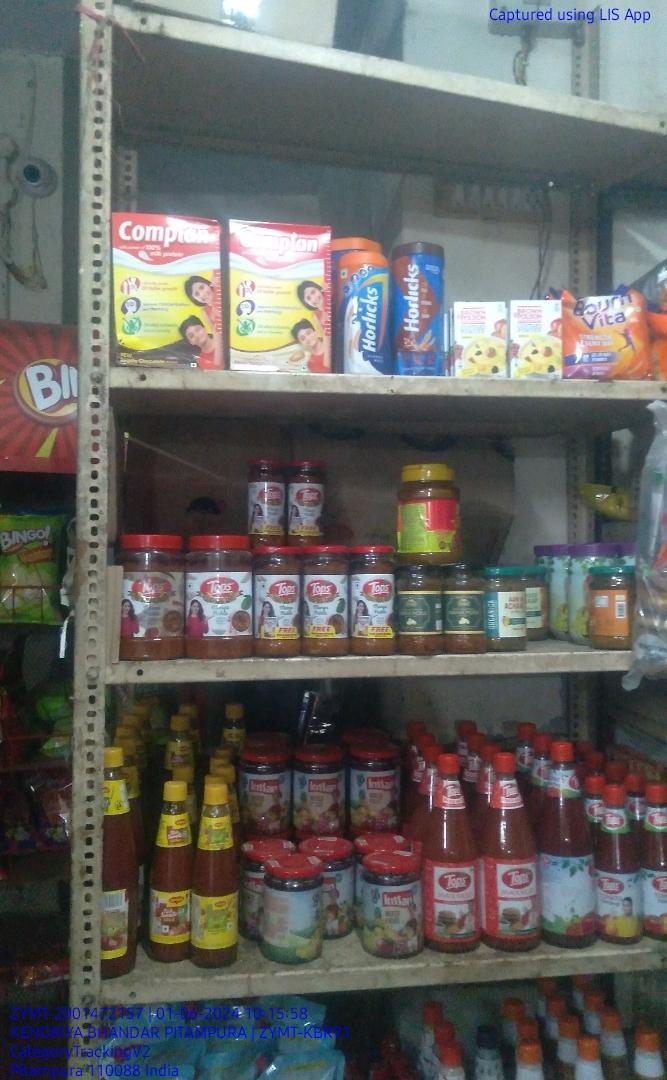BOURN_VITA_500_G_POUCH: (562, 281, 645, 381)
COMPLAN_CHOCOLATE_500_GMS_PACK: (108, 217, 219, 369)
COMPLAN_KESAR_BADAM_500_GMS_PACK: (231, 216, 332, 371)
HORLICK_CHOCOLATE_200_G_JAR: (391, 234, 445, 377)
HORLICK_CLASSIC_MALT_200_G_JAR: (336, 245, 389, 377)
